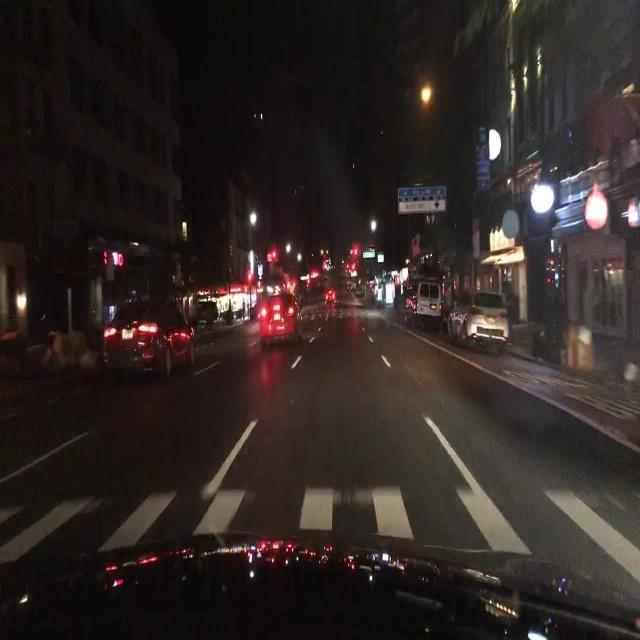normal: (86, 277, 204, 394)
